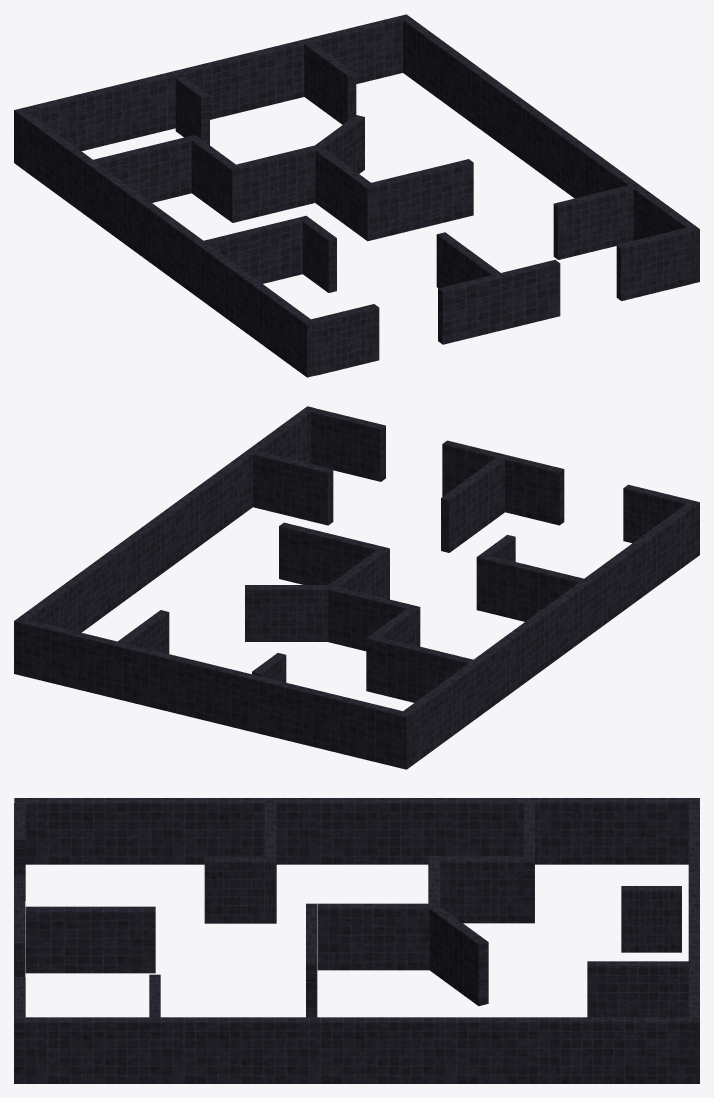
The picture shows the model from 3 angles, top to bottom: view 1: azimuth 30°, elevation 25°; view 2: azimuth 150°, elevation 25°; view 3: azimuth 270°, elevation 25°; orthographic projection. The views are drawn at different scales.
Parts seen in each view (by area): view 1: polySurface7, polySurface9, polySurface11, pCube59, pCube74, pCube62, pCube72, pCube69, pCube67, pCube70, pCube68, pCube54 (+5 smaller); view 2: polySurface9, polySurface7, polySurface11, pCube59, pCube62, pCube75, pCube69, pCube70, pCube74, pCube67, pCube64, pCube72 (+5 smaller); view 3: polySurface11, polySurface7, pCube64, pCube73, pCube54, pCube62, pCube71, pCube75, pCube66, polySurface9, pCube70, pCube74 (+5 smaller).
Boxes of the visible parts, x1,y1,x2,y2 form: polySurface7: (19,111,315,377); polySurface9: (14,14,410,166); polySurface11: (403,18,699,283); pCube59: (438,259,560,344); pCube74: (362,159,473,241); pCube62: (204,215,336,292); pCube72: (227,144,322,222); pCube69: (553,185,633,259); pCube67: (616,227,691,300); pCube70: (93,135,199,202); pCube68: (311,304,379,375); pCube54: (304,42,356,124); polySurface9: (14,617,411,769); polySurface7: (403,500,699,765); polySurface11: (19,406,315,632); pCube59: (442,440,564,525); pCube62: (476,535,583,621); pCube75: (245,585,331,641); pCube69: (253,451,333,525); pCube70: (366,635,472,702); pCube74: (279,522,389,599); pCube67: (311,408,385,481); pCube64: (441,457,504,552); pCube72: (326,584,420,651); polySurface11: (14,1017,688,1083); polySurface7: (14,798,688,864); pCube64: (25,906,155,973); pCube73: (317,903,428,970); pCube54: (587,961,688,1017); pCube62: (204,803,276,923); pCube71: (440,856,523,923); pCube75: (429,906,488,1006); pCube66: (621,886,681,952); polySurface9: (688,798,699,1083); pCube70: (523,803,534,923); pCube74: (306,903,317,1017).
Bounding box in the file's own units: 114 × 14.74 × 148.
1 material, 1 textured.
